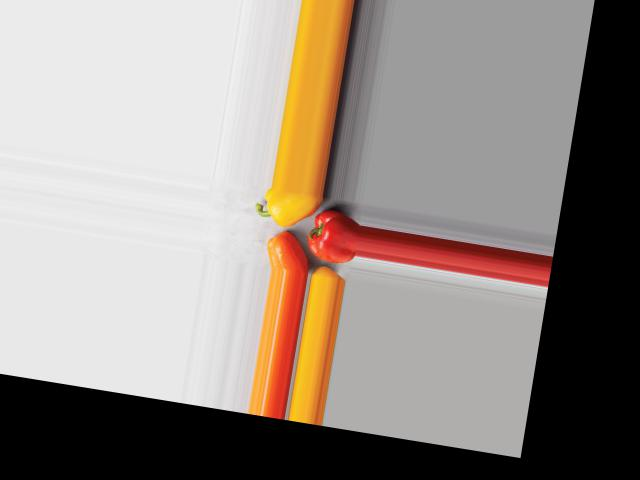bell_pepper: (303, 204, 361, 266)
